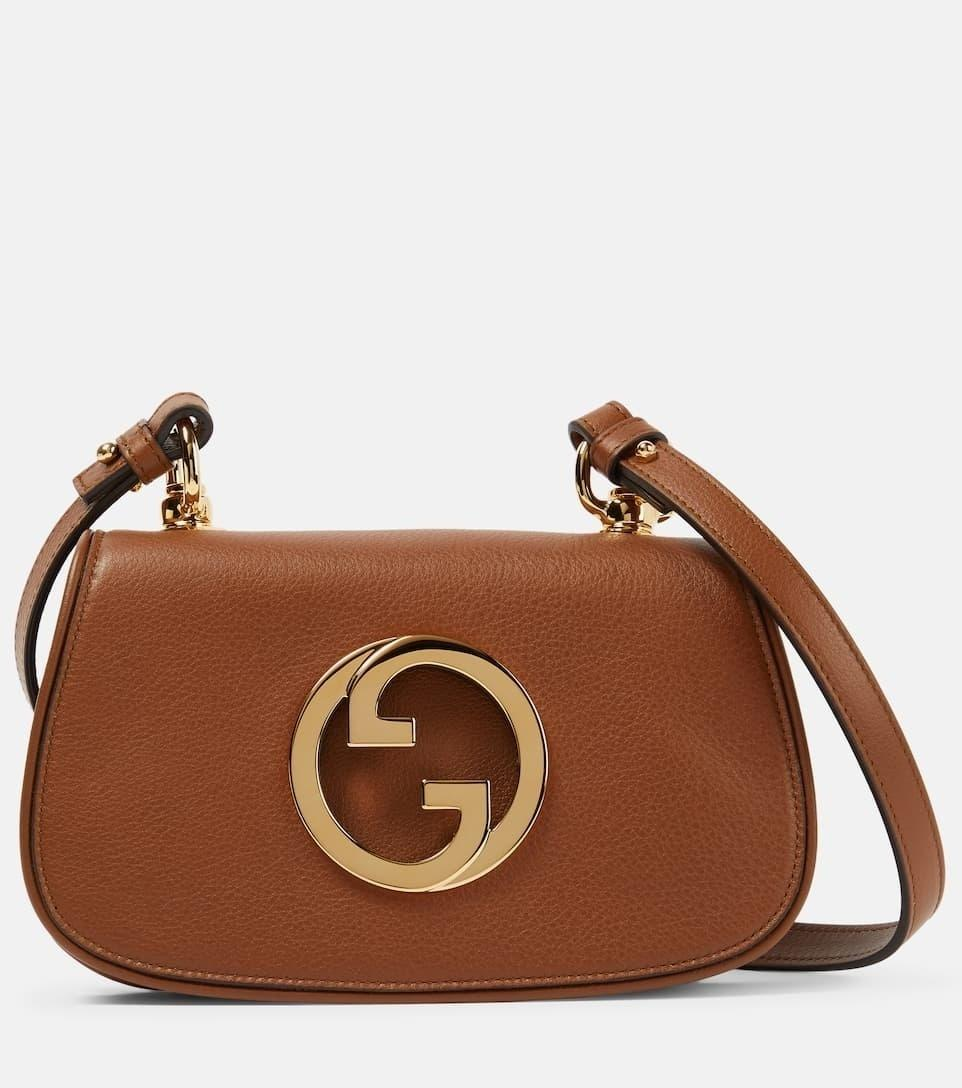GUCCI: (290, 634, 549, 893)
